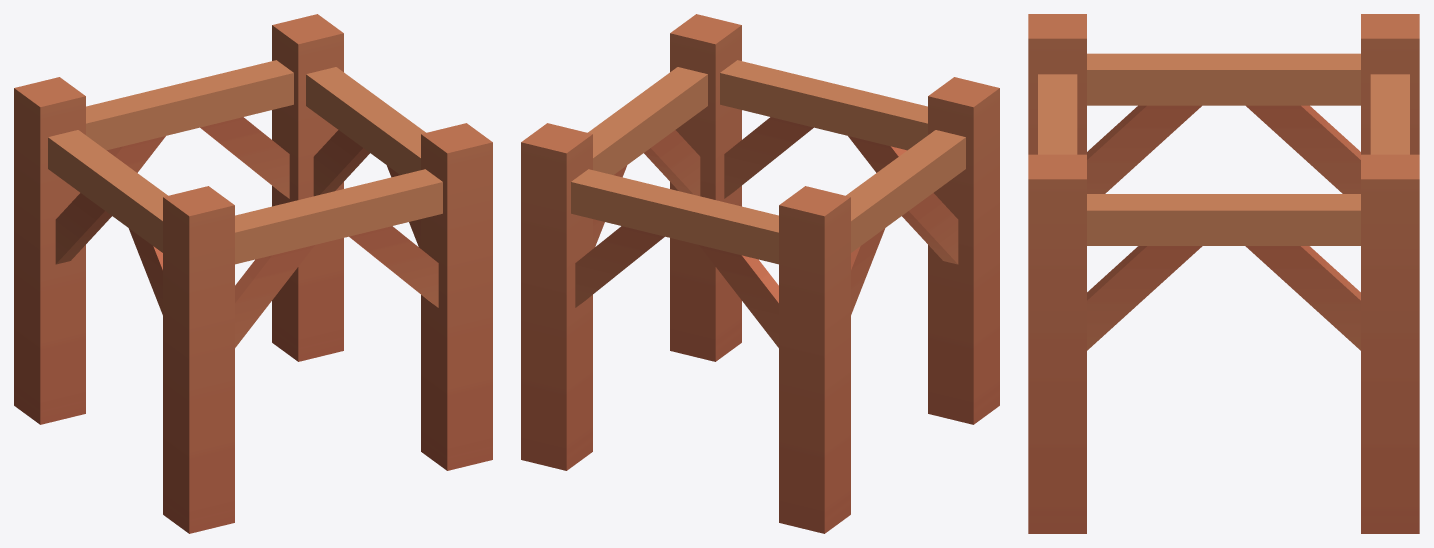
The picture shows the model from 3 angles, left to right: view 1: azimuth 30°, elevation 25°; view 2: azimuth 150°, elevation 25°; view 3: azimuth 270°, elevation 25°; orthographic projection. The views are drawn at different scales.
Parts seen in each view (by area): view 1: wood_structure; view 2: wood_structure; view 3: wood_structure.
Boxes of the visible parts, x1,y1,x2,y2 form: wood_structure: [14, 14, 492, 533]; wood_structure: [521, 14, 999, 533]; wood_structure: [1028, 14, 1419, 533].
Bounding box in the file's own units: 1 × 1 × 1.
1 material, 1 textured.
